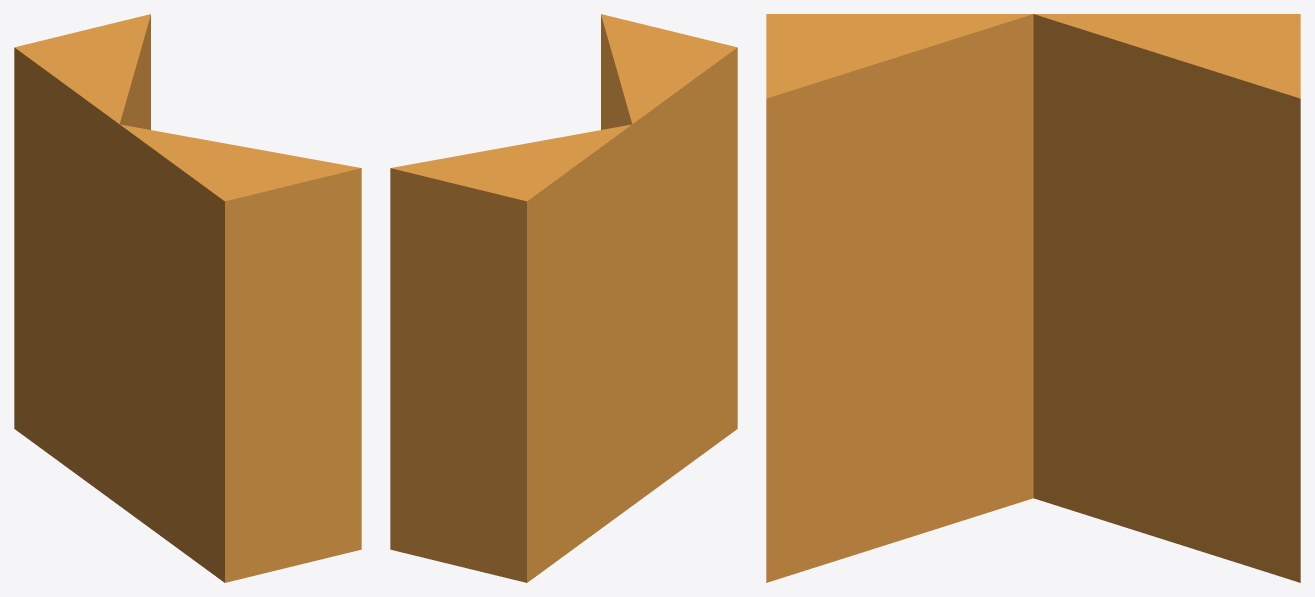
The model's file is r3c7_body_orange.gltf.
3 views of the same model, side by side, from view 1: azimuth 30°, elevation 25°; view 2: azimuth 150°, elevation 25°; view 3: azimuth 270°, elevation 25° (orthographic). The views are drawn at different scales.
Parts seen in each view (by area): view 1: r3c7_body_orange; view 2: r3c7_body_orange; view 3: r3c7_body_orange.
Boxes of the visible parts, left/top/right/bottom form: r3c7_body_orange: left=14, top=14, right=361, bottom=582; r3c7_body_orange: left=390, top=14, right=737, bottom=582; r3c7_body_orange: left=766, top=14, right=1300, bottom=582.
Size of what is drawn, in the model's own units: 0.75 by 2 by 2.
Materials: 1 (1 with a texture image).
